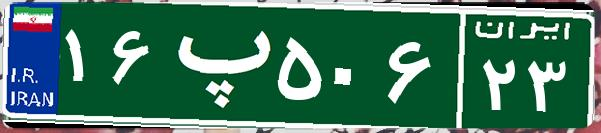0: (330, 28, 385, 110)
1: (57, 26, 110, 107)
2: (475, 38, 525, 113)
3: (525, 38, 570, 115)
5: (273, 28, 330, 110)
6: (385, 28, 445, 110), (110, 28, 158, 105)
پ: (158, 15, 273, 115)
